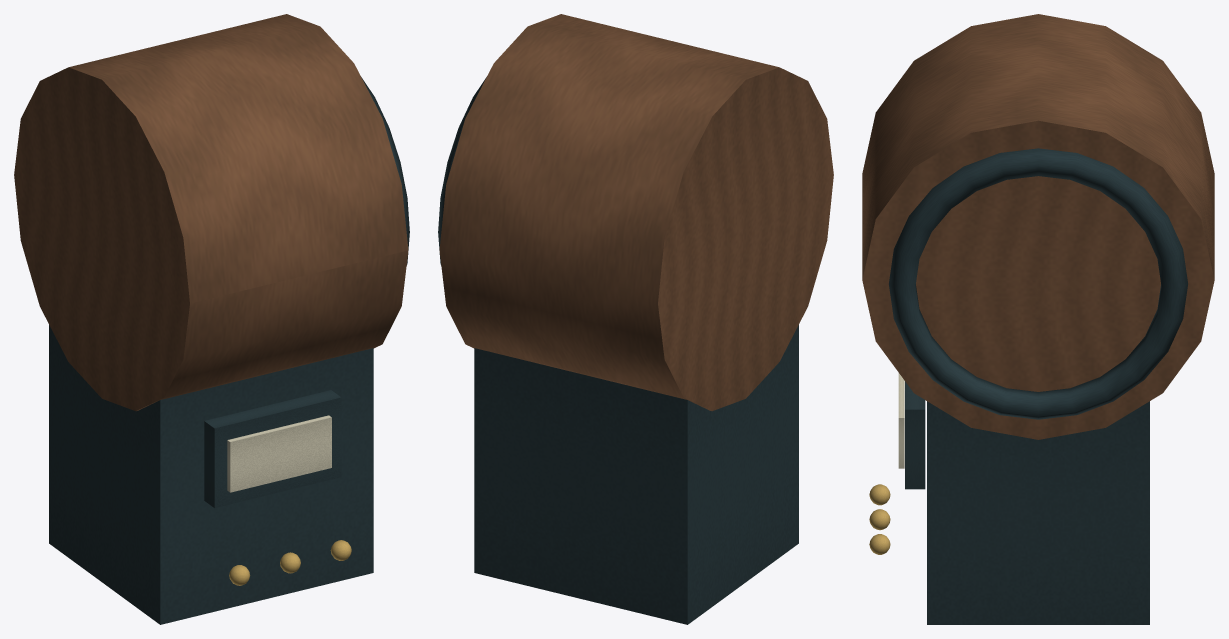
The model's file is feeder_1.glb.
3 renders of one model, left to right at view 1: azimuth 30°, elevation 25°; view 2: azimuth 150°, elevation 25°; view 3: azimuth 270°, elevation 25°, orthographic.
Visible parts, largest first — view 1: static_ornament; view 2: static_ornament; view 3: static_ornament.
Part boxes in pixels (left/top/right/bottom): static_ornament: left=14, top=14, right=409, bottom=624; static_ornament: left=438, top=14, right=833, bottom=624; static_ornament: left=862, top=14, right=1214, bottom=624.
Size of the model in its own units: 0.4688 by 0.95 by 0.6.
Materials: 1 (1 with a texture image).
